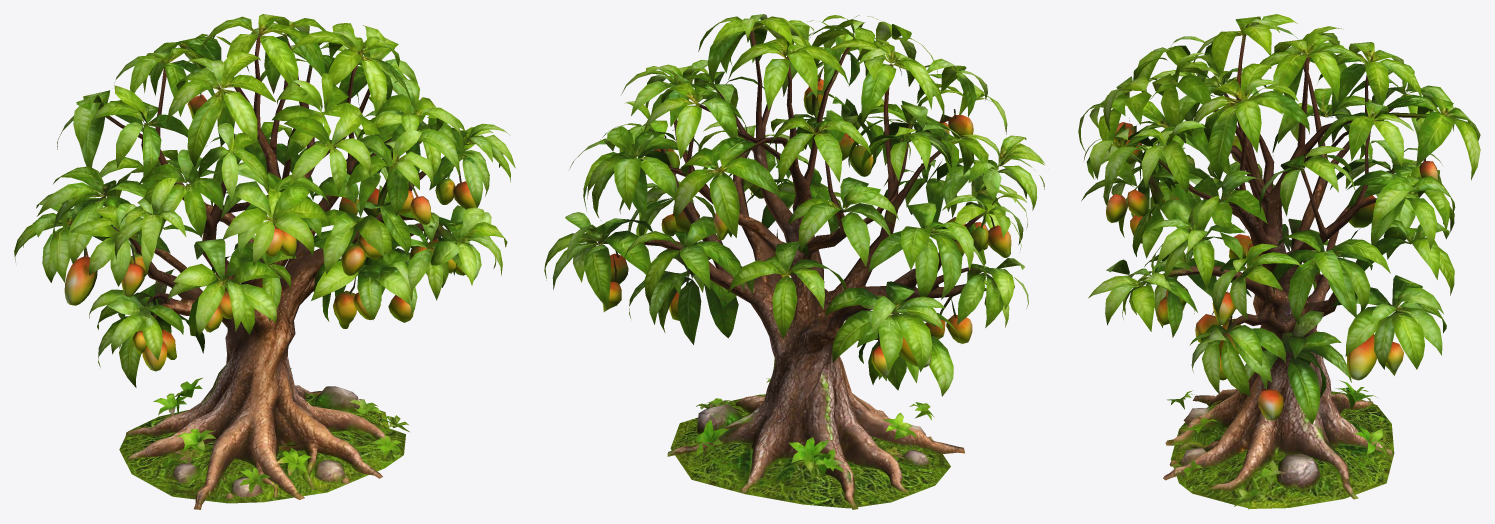
Rendered from pohon-mangga.glb.
The picture shows the model from 3 angles, left to right: view 1: azimuth 30°, elevation 25°; view 2: azimuth 150°, elevation 25°; view 3: azimuth 270°, elevation 25°; orthographic projection.
Parts seen in each view (by area): view 1: tripo_node_a8e8ec0e-87c3-48fd-8cc7-e8314e4a61cf; view 2: tripo_node_a8e8ec0e-87c3-48fd-8cc7-e8314e4a61cf; view 3: tripo_node_a8e8ec0e-87c3-48fd-8cc7-e8314e4a61cf.
Part boxes in pixels (bbox=[...]): tripo_node_a8e8ec0e-87c3-48fd-8cc7-e8314e4a61cf: bbox=[14, 14, 515, 509]; tripo_node_a8e8ec0e-87c3-48fd-8cc7-e8314e4a61cf: bbox=[544, 14, 1044, 509]; tripo_node_a8e8ec0e-87c3-48fd-8cc7-e8314e4a61cf: bbox=[1078, 14, 1480, 509].
Bounding box in the file's own units: 0.9995 × 0.9966 × 0.8735.
Materials: 1 (1 with a texture image).
